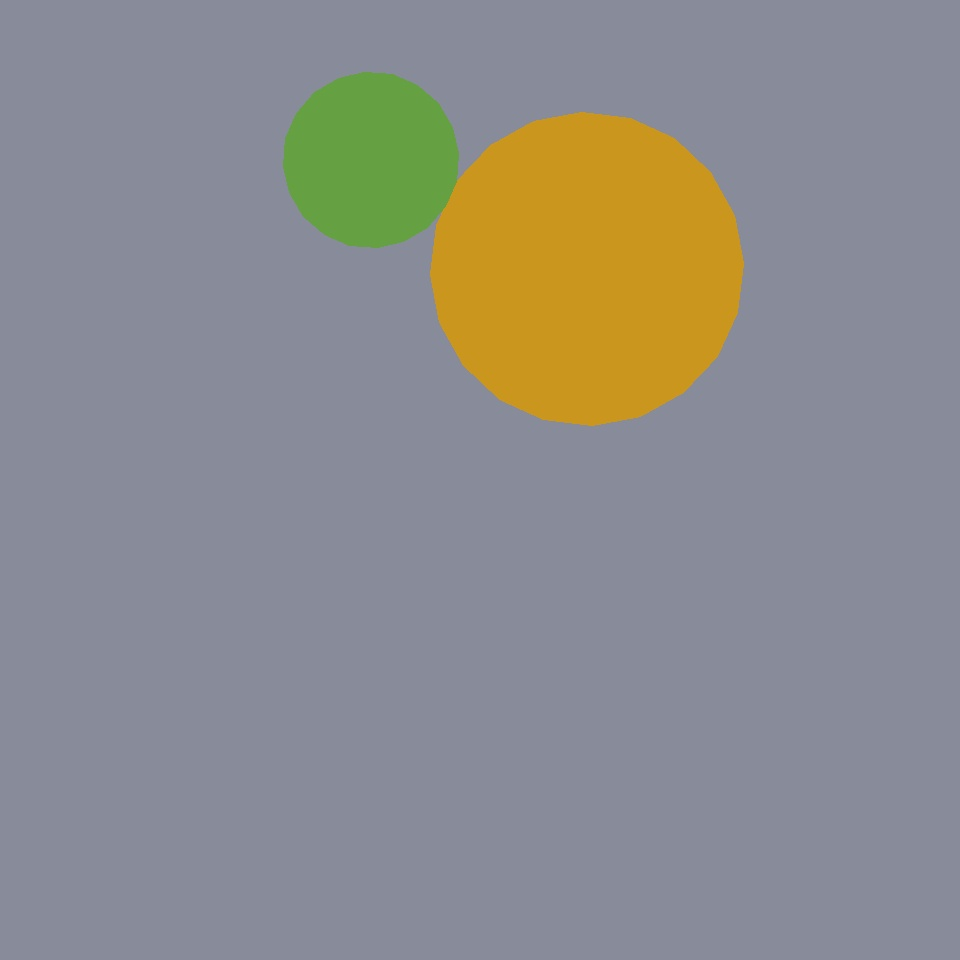circle: (316, 75, 529, 317)
square: (443, 43, 660, 260)
triangle: (556, 74, 919, 437), (430, 112, 744, 426), (284, 72, 458, 248), (178, 592, 325, 740)
